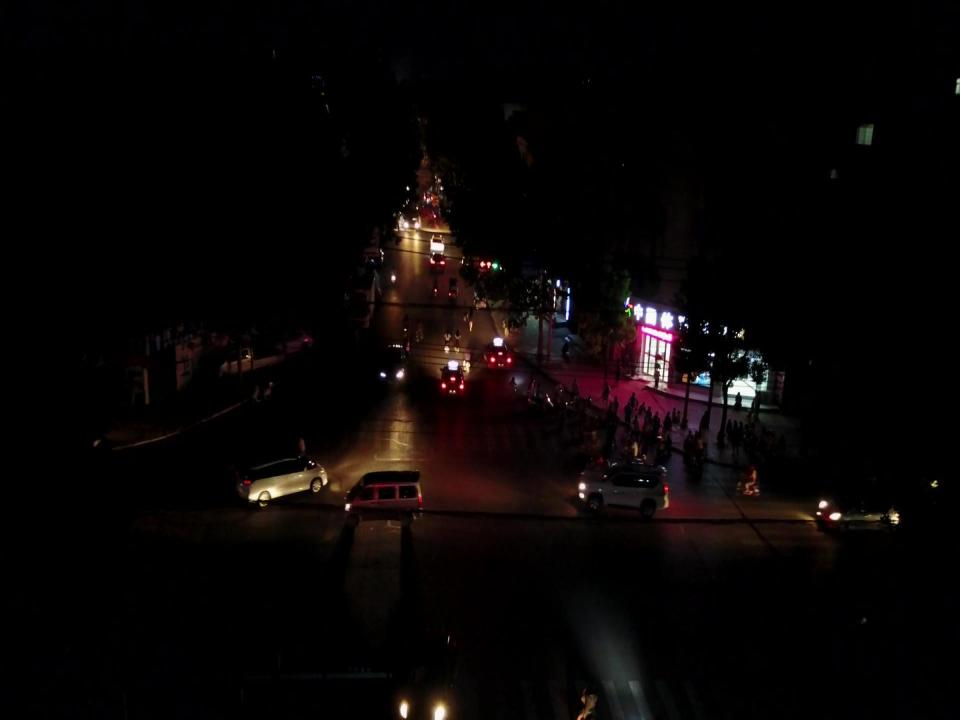car: (576, 464, 668, 518), (817, 494, 902, 535), (380, 343, 410, 387), (265, 330, 315, 356), (484, 337, 514, 373), (440, 360, 465, 397), (430, 252, 446, 270)
truck: (220, 342, 287, 382)
van: (234, 455, 328, 507), (344, 469, 424, 527), (430, 233, 444, 254), (448, 277, 458, 299)
